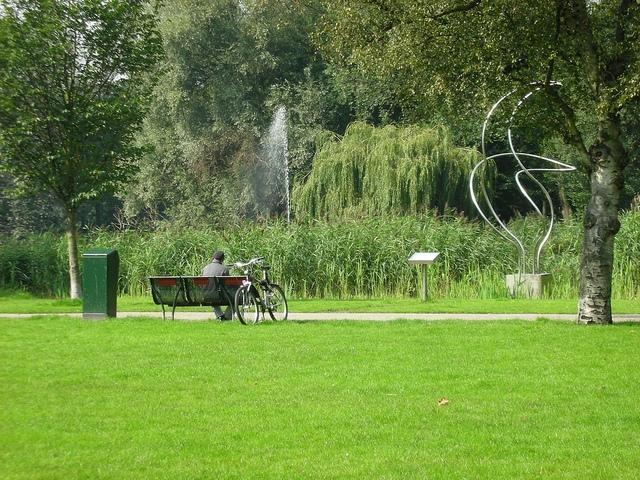bicycle: (226, 256, 288, 327)
